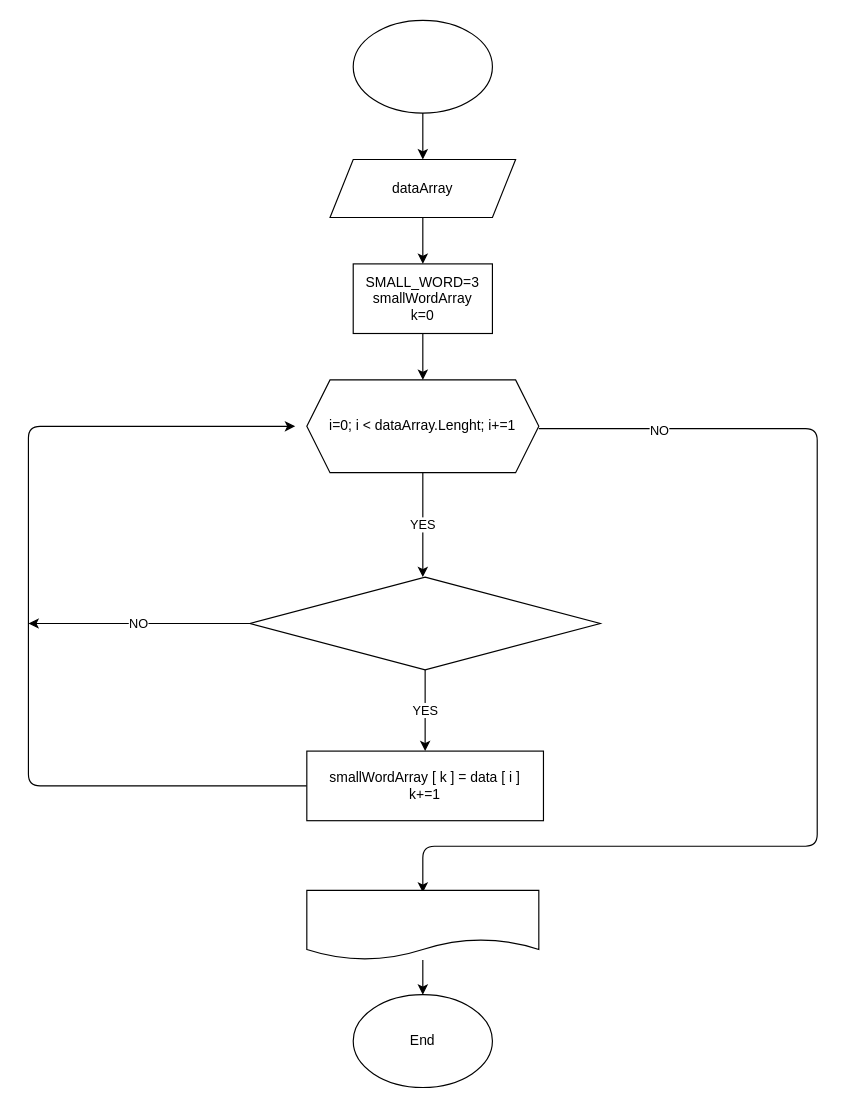
This 847x1108 diagram has some shape labels left out. Here are the shapes that lost their labels. From the top down, the centre of each, then its label:
[422,66]: Start
[424,623]: data [ i ].Lenght <= SMALL_WORD & data [ i ] ! = " "
[422,924]: Print (dataArray) Print (smallWordArray)
